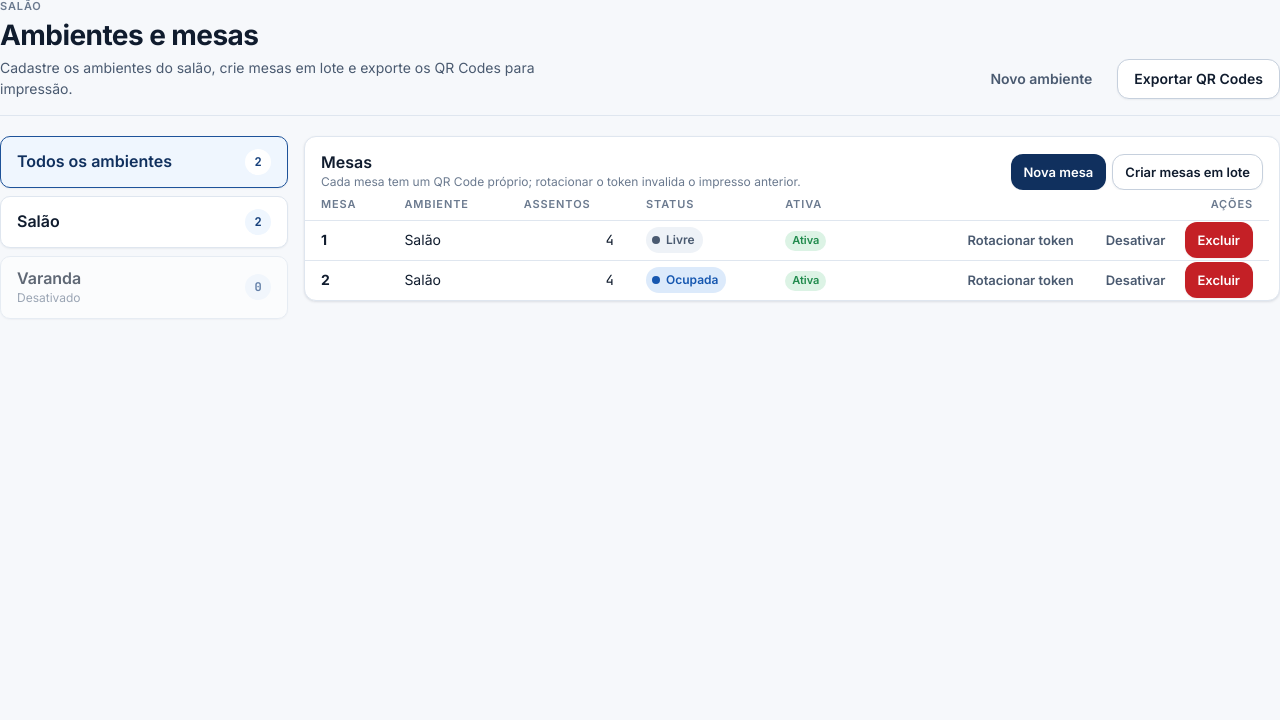
TableManagementPage › mostra a mensagem de erro do backend quando uma acao falha
Click the button "Excluir" in the row of "Ocupada". click: (1219, 280)
box: [1184,262,1253,298]
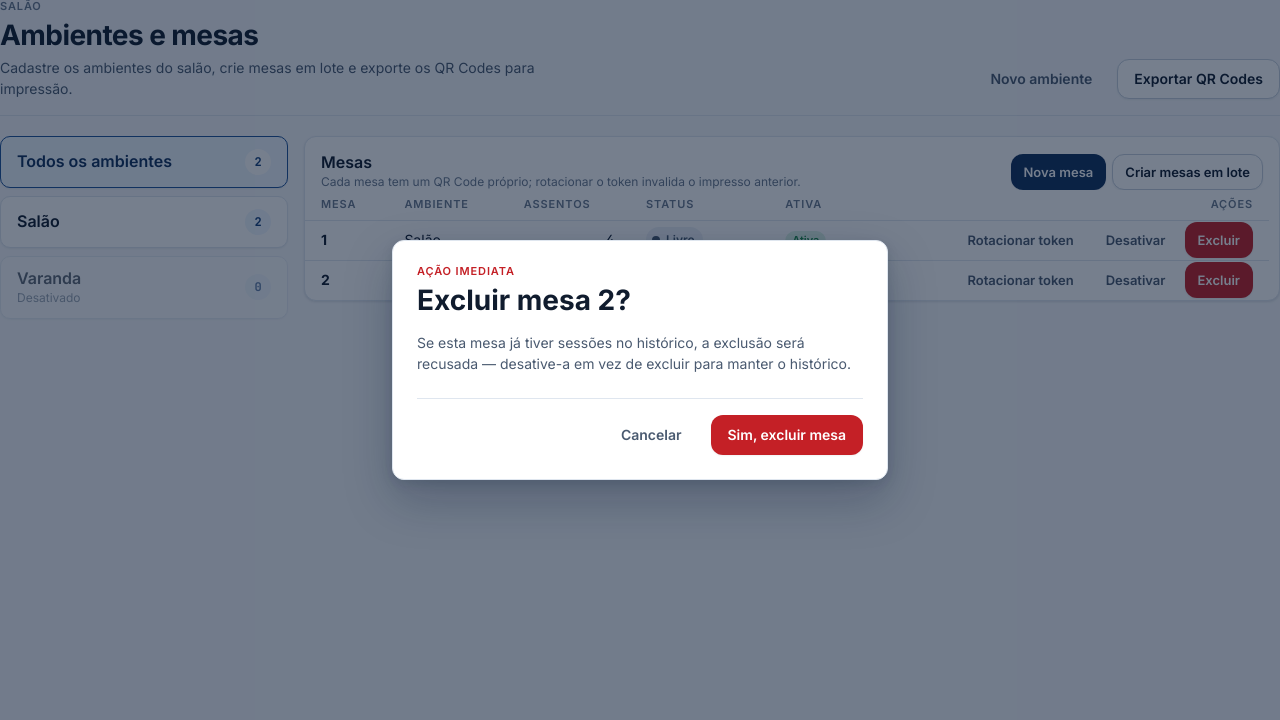
Click the button "Sim, excluir mesa". click: (787, 435)
box: [710,415,863,455]
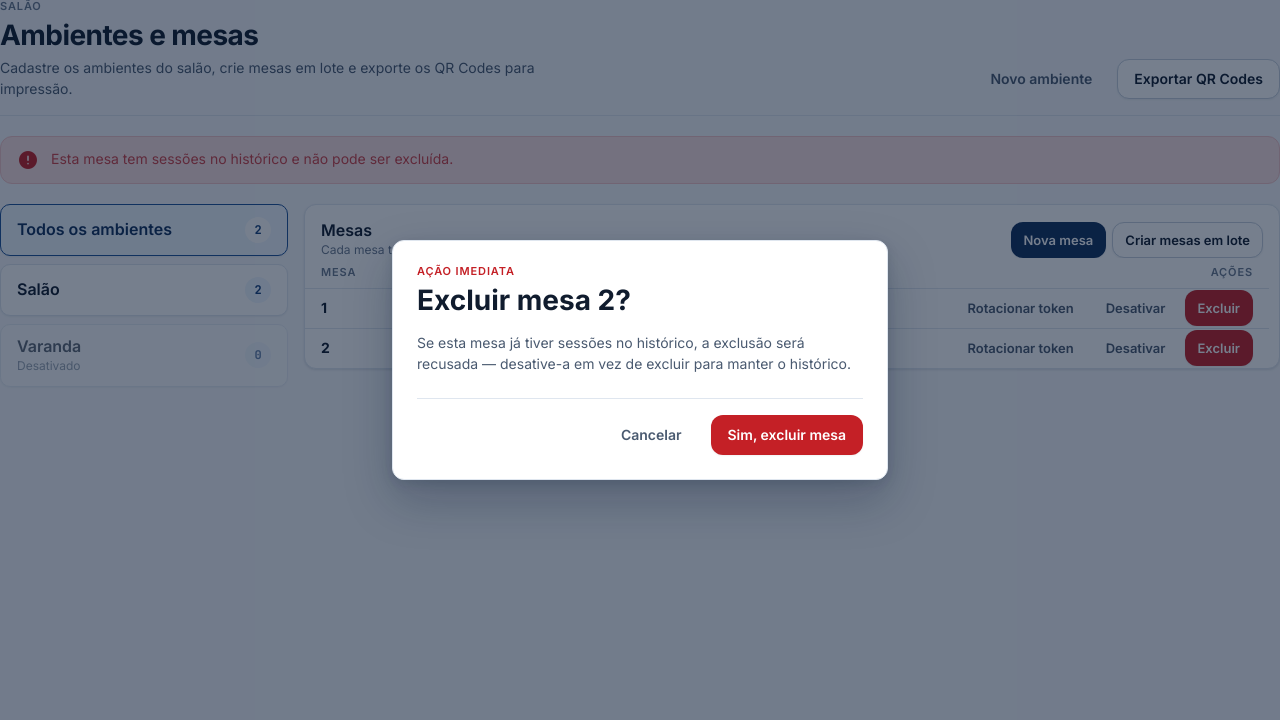
Expected: the text "Esta mesa tem sessões no histórico e não pode ser excluída." is shown, [51,149,453,169]
